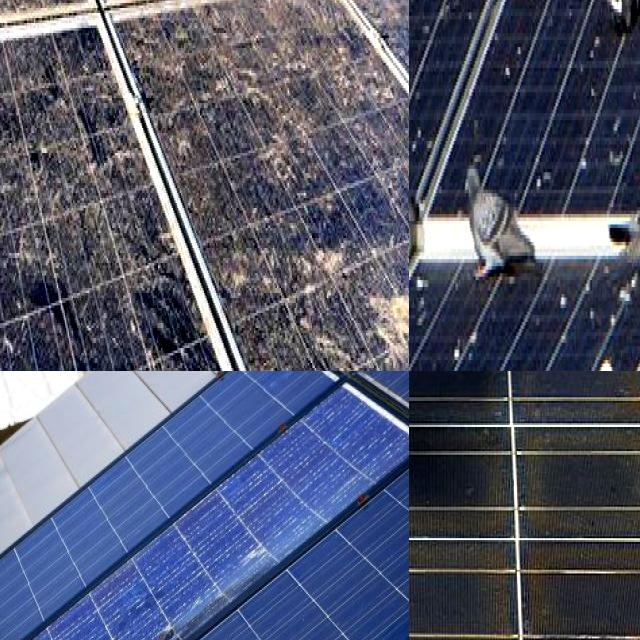bird: (0, 69, 88, 198), (216, 39, 274, 140), (249, 244, 329, 305), (109, 283, 164, 371), (368, 275, 409, 371), (546, 268, 602, 331), (126, 0, 221, 34), (412, 0, 461, 56), (606, 96, 636, 184), (449, 294, 478, 371), (409, 108, 442, 175), (500, 29, 530, 92), (0, 296, 28, 361), (0, 0, 41, 42), (530, 150, 558, 208), (385, 122, 409, 189), (412, 267, 437, 331), (409, 41, 434, 101), (0, 288, 18, 357), (584, 8, 606, 54), (409, 40, 420, 127), (409, 0, 424, 49), (0, 0, 32, 22)
hotspot: (0, 587, 172, 640)
shadow: (520, 422, 640, 542), (409, 428, 508, 531), (523, 554, 640, 640), (409, 545, 510, 640), (409, 423, 476, 537), (409, 546, 481, 640), (512, 371, 640, 417), (409, 434, 467, 525), (409, 371, 505, 423), (409, 544, 459, 640), (409, 371, 475, 416), (409, 371, 476, 415)
